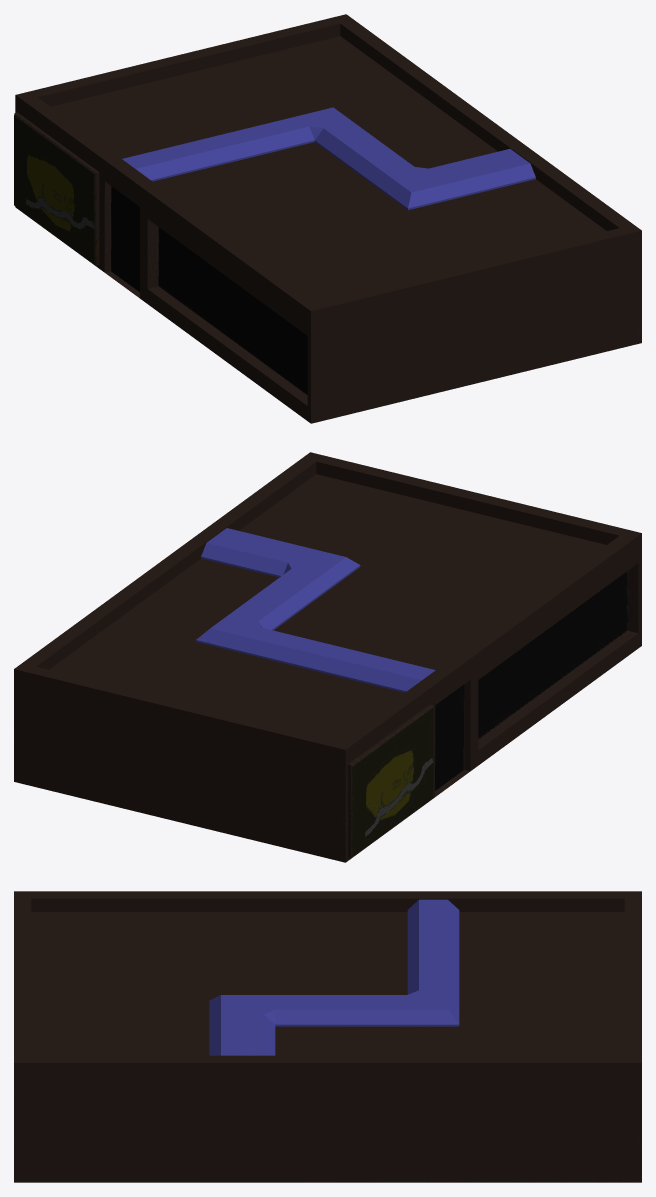
Rendered from Stripmall.FBX.
3 renders of one model, top to bottom at view 1: azimuth 30°, elevation 25°; view 2: azimuth 150°, elevation 25°; view 3: azimuth 270°, elevation 25°, orthographic. The views are drawn at different scales.
Visible parts, largest first — view 1: Box008; view 2: Box008; view 3: Box008.
Part boxes in pixels (x1,y1,x2,y2): Box008: (14,14,641,423); Box008: (14,452,641,862); Box008: (14,891,641,1182).
Bounding box in the file's own units: 712 × 228 × 1087.
